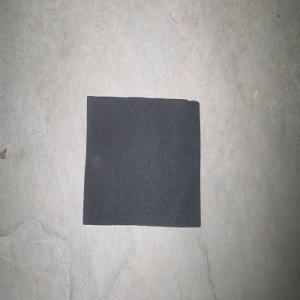PaintChip: (82, 95, 200, 227)
